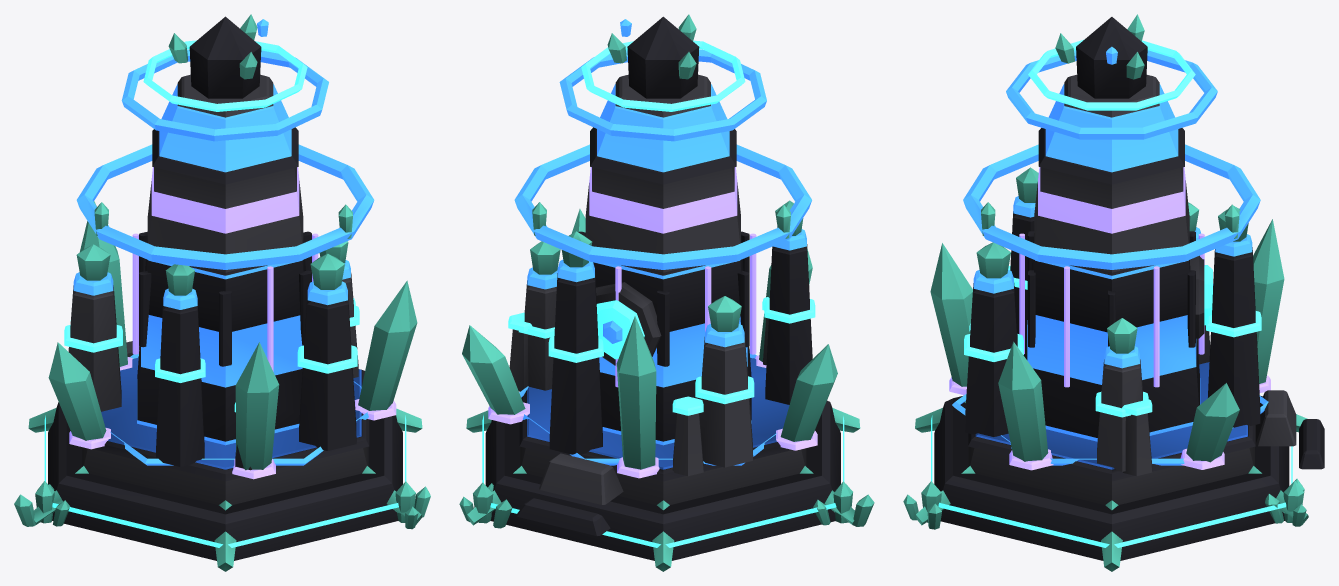
3 renders of one model, left to right at view 1: azimuth 30°, elevation 25°; view 2: azimuth 150°, elevation 25°; view 3: azimuth 270°, elevation 25°, orthographic.
Parts seen in each view (by area): view 1: body, spinHalo, spinHalo2, spinShards; view 2: body, spinHalo, spinHalo2, spinShards; view 3: body, spinHalo, spinHalo2, spinShards.
Boxes of the visible parts, x1,y1,x2,y2 form: body: [14, 16, 430, 571]; spinHalo: [76, 144, 374, 269]; spinHalo2: [121, 40, 328, 141]; spinShards: [168, 14, 268, 79]; body: [459, 16, 874, 571]; spinHalo: [514, 144, 811, 269]; spinHalo2: [559, 40, 766, 141]; spinShards: [607, 14, 696, 79]; body: [903, 17, 1324, 571]; spinHalo: [963, 144, 1260, 269]; spinHalo2: [1006, 39, 1217, 139]; spinShards: [1055, 14, 1144, 79].
Size of the model in its own units: 3.66 by 3.98 by 3.29.
